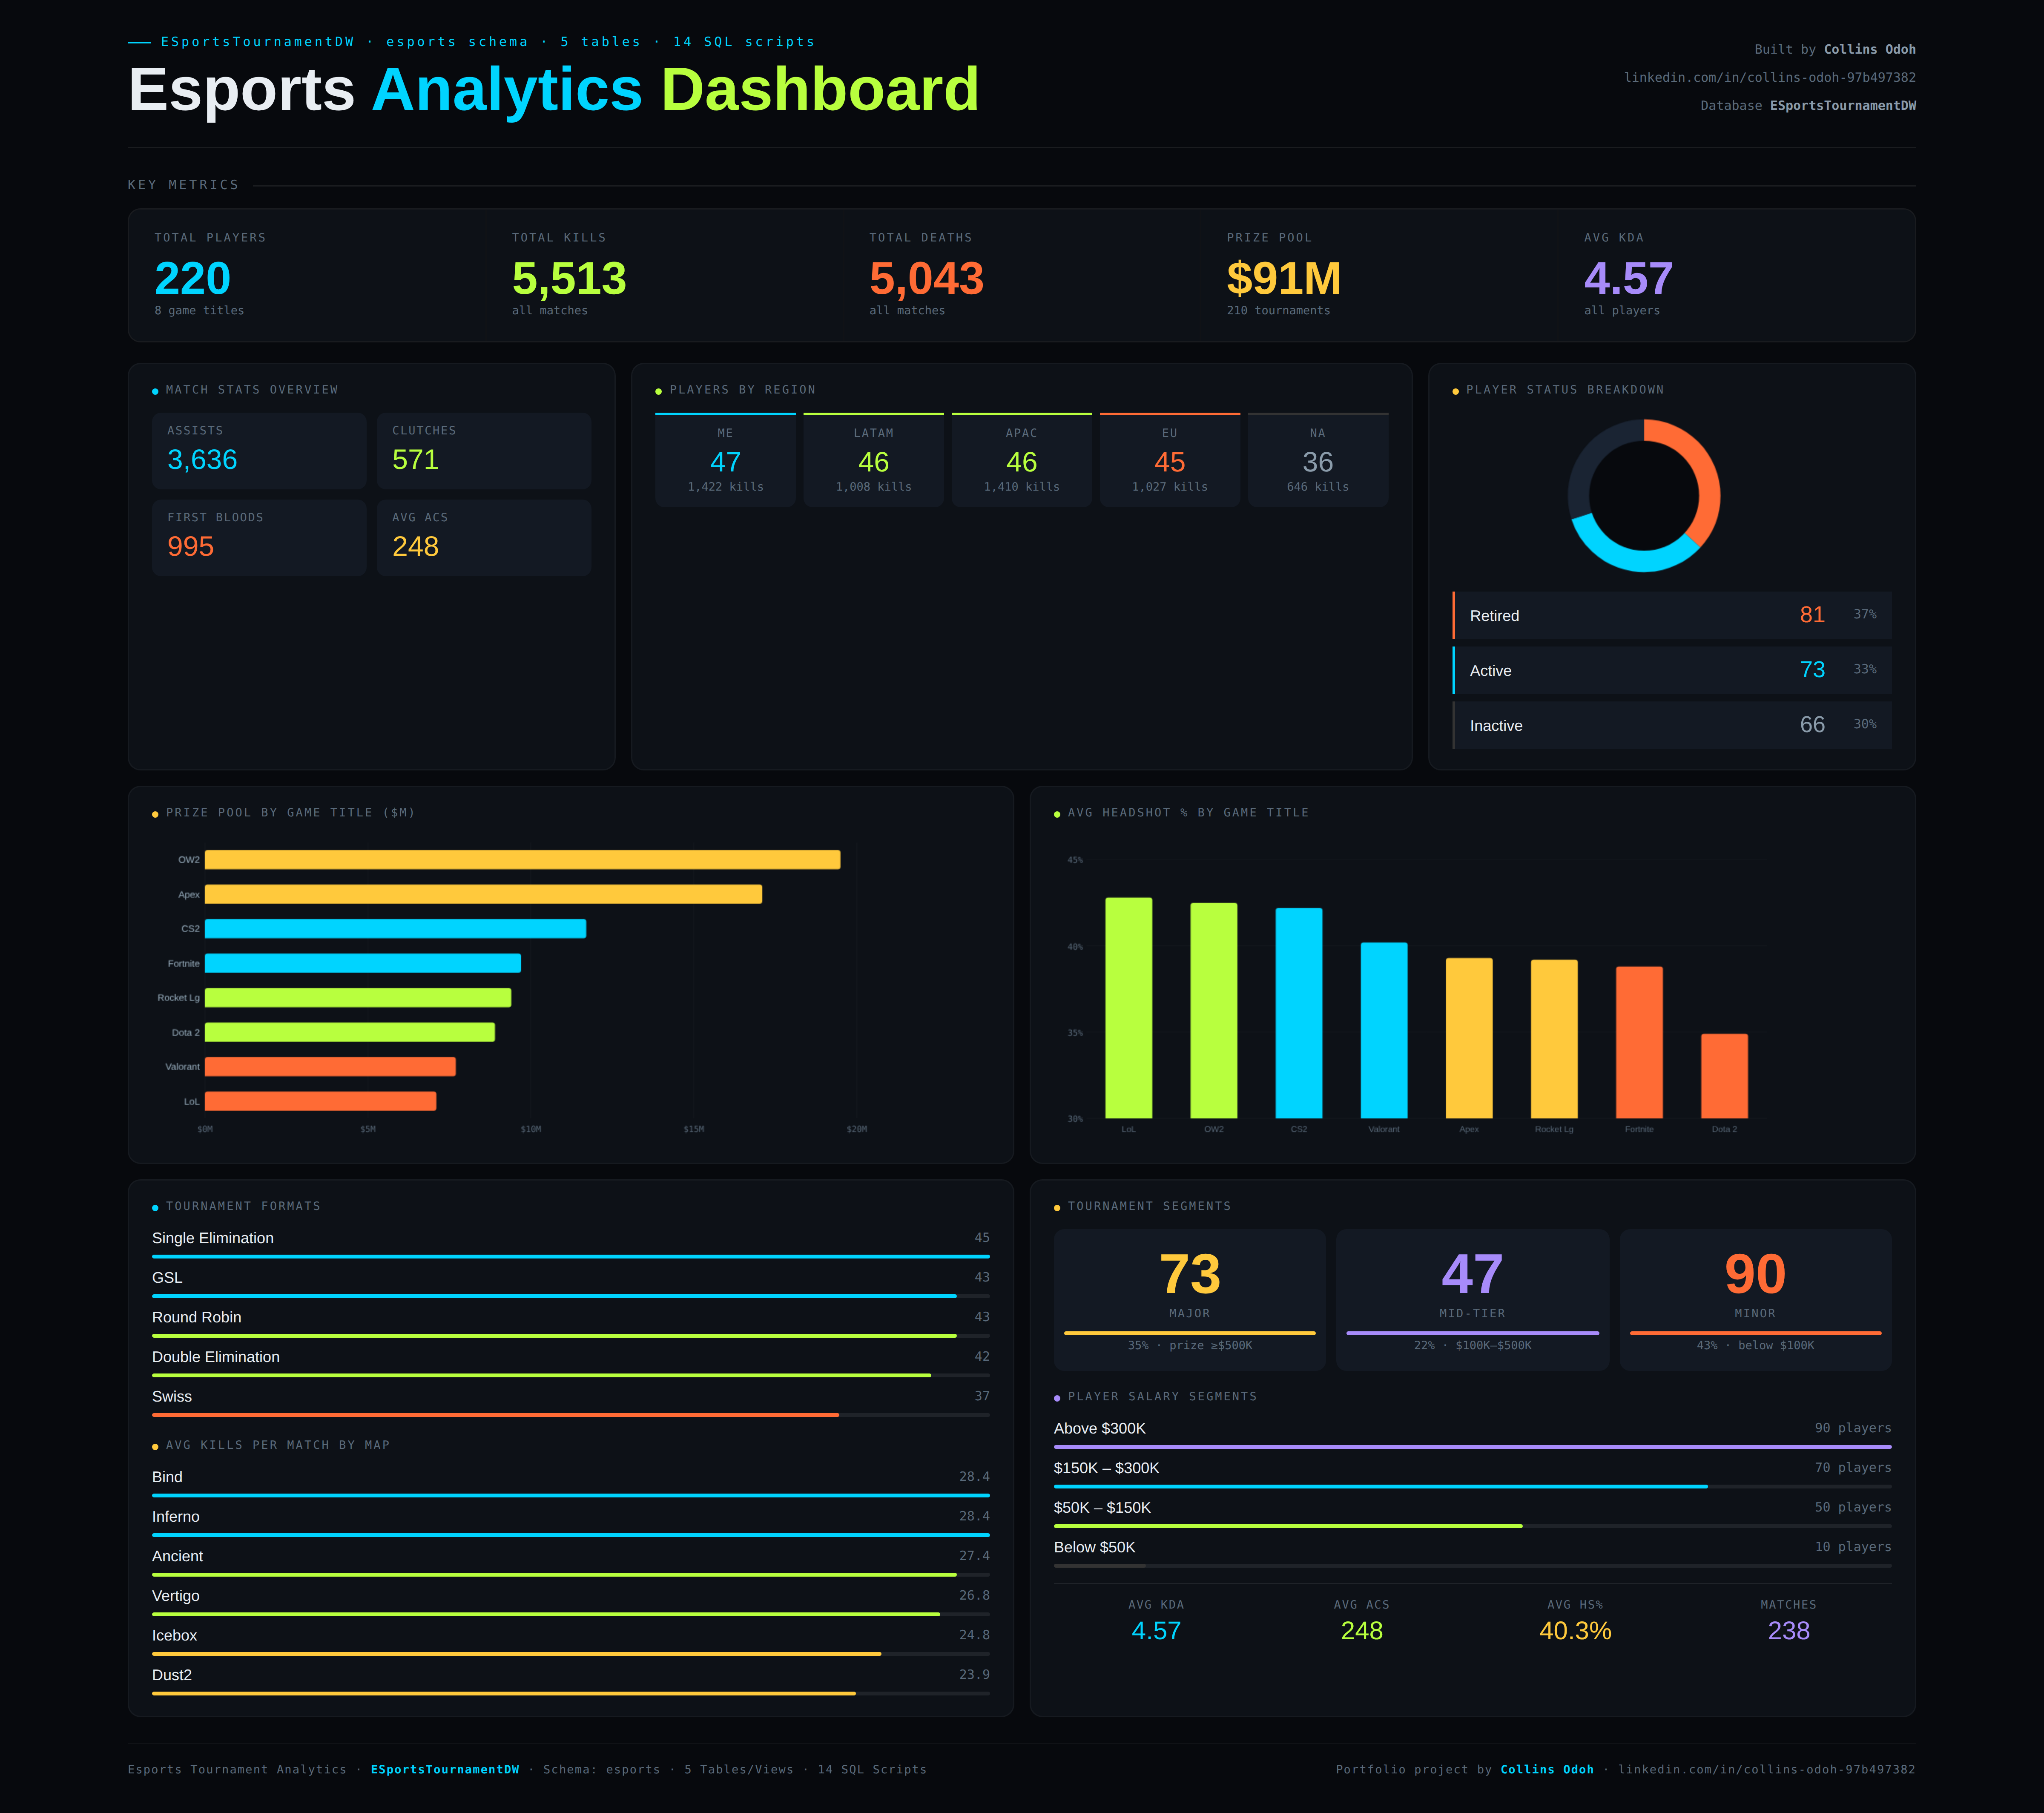

What the dashboard file says about the page in this screenshot:
{"tool":"powerbi","page":{"name":"Page 1","canvas":[3700,4700],"ordinal":0},"visuals":[{"type":"cardVisual","fields":{"Data":["Sum(esports report_tournaments.total_players)","Sum(esports report_tournaments.total_kills)","Sum(esports fact_matchstats.deaths)","CountNonNull(esports report_players.total_matches)","Sum(esports dim_tournaments.prize_pool_usd)"]},"box":[0,603.4,3672.4,282.8],"z":0},{"type":"textbox","box":[20.1,40.1,1459.4,310.9],"z":1000},{"type":"textbox","box":[1100.8,160.5,378.6,62.7],"z":2000},{"type":"textbox","box":[845,235.7,185.6,75.2],"z":3000},{"type":"textbox","box":[1030.6,223.2,260.8,87.8],"z":4000},{"type":"shape","title":"Match stats overview","box":[0,980,1050,885],"z":5000},{"type":"cardVisual","fields":{"Data":["Sum(esports fact_matchstats.assists)"]},"box":[18.8,1065.6,478.1,325],"z":6000},{"type":"cardVisual","fields":{"Data":["Sum(esports fact_matchstats.clutches)"]},"box":[496.9,1065.6,506.2,325],"z":7000},{"type":"cardVisual","fields":{"Data":["Avg(esports report_players.avg_acs)"]},"box":[496.9,1456.2,506.2,315.6],"z":8000},{"type":"cardVisual","fields":{"Data":["Sum(esports fact_matchstats.first_bloods)"]},"box":[0,1456.2,496.9,315.6],"z":9000},{"type":"shape","box":[1100,965,1375,900],"z":10000},{"type":"cardVisual","fields":{"Data":["CountNonNull(esports dim_players.player_key)"]},"box":[1393.8,1009.4,275,446.9],"z":11000},{"type":"cardVisual","fields":{"Data":["CountNonNull(esports dim_players.player_key)"]},"box":[1137.5,1015.6,256.2,425],"z":12000},{"type":"cardVisual","fields":{"Data":["CountNonNull(esports dim_players.player_key)"]},"box":[1643.8,1012.5,287.5,446.9],"z":13000},{"type":"cardVisual","fields":{"Data":["CountNonNull(esports dim_players.player_key)"]},"box":[1906.2,1012.5,281.2,456.2],"z":14000},{"type":"cardVisual","fields":{"Data":["CountNonNull(esports dim_players.player_key)"]},"box":[2171.4,1014.3,267.9,446.4],"z":15000},{"type":"shape","box":[2506.2,965.6,1165.6,1050],"z":16000},{"type":"donutChart","fields":{"Category":["esports dim_players.status"],"Y":["CountNonNull(esports dim_players.player_key)"]},"box":[2837.9,1020.7,579.3,437.9],"z":17000},{"type":"cardVisual","fields":{"Data":["CountNonNull(esports dim_players.player_key)"]},"box":[2593.8,1481.2,1003.1,121.9],"z":18000},{"type":"cardVisual","fields":{"Data":["CountNonNull(esports dim_players.player_key)"]},"box":[2589.3,1614.3,1003.6,135.7],"z":19000},{"type":"cardVisual","fields":{"Data":["CountNonNull(esports dim_players.player_key)"]},"box":[2590.6,1750,1003.1,115.6],"z":20000},{"type":"clusteredBarChart","title":"Prize Pool by Game Title ($M)","fields":{"Category":["esports dim_tournaments.game_title"],"Y":["Sum(esports dim_tournaments.prize_pool_usd)"]},"box":[20,2080,1633.3,793.3],"z":21000},{"type":"clusteredColumnChart","title":"Avg headshot % by game title","fields":{"Category":["esports dim_players.game_title"],"Y":["Avg(esports fact_matchstats.headshot_pct)"]},"box":[1975.8,2081.8,1651.5,772.7],"z":22000},{"type":"donutChart","title":"Player Salary Segments","fields":{"Category":["esports dim_players.Salary Segment"],"Y":["CountNonNull(esports dim_players.player_key)"]},"box":[26.7,3673.3,1453.3,726.7],"z":23000},{"type":"cardVisual","fields":{"Data":["CountNonNull(esports dim_tournaments.tournament_key)"]},"box":[0,4100,1207.4,477.8],"z":24000},{"type":"cardVisual","fields":{"Data":["CountNonNull(esports dim_tournaments.tournament_key)"]},"box":[1243.8,4100,1212.5,478.1],"z":25000},{"type":"cardVisual","fields":{"Data":["CountNonNull(esports dim_tournaments.tournament_key)"]},"box":[2440.7,4100,1207.4,477.8],"z":26000},{"type":"clusteredBarChart","title":"        TOURNAMENT FORMAT","fields":{"Category":["esports dim_tournaments.format"],"Y":["CountNonNull(esports dim_tournaments.tournament_key)"]},"box":[2047.1,3029.4,1461.8,397.1],"z":27000},{"type":"clusteredBarChart","fields":{"Category":["esports fact_matchstats.map_played"],"Y":["Avg(esports fact_matchstats.kills)"]},"box":[2046.9,3518.8,1456.2,515.6],"z":28000}]}

Visuals, with their boxes on the page's 3700x4700 design canvas (x1, y1, x2, y2). These are canvas units, not pixel positions in the 2044x1813 screenshot, which may show the page scaled, cropped or inside an application window:
cardVisual - Sum(esports report_tournaments.total_players) x Sum(esports report_tournaments.total_kills): [left=0, top=603, right=3672, bottom=886]
textbox: [left=20, top=40, right=1480, bottom=351]
textbox: [left=1101, top=160, right=1479, bottom=223]
textbox: [left=845, top=236, right=1031, bottom=311]
textbox: [left=1031, top=223, right=1291, bottom=311]
"Match stats overview" shape: [left=0, top=980, right=1050, bottom=1865]
cardVisual - Sum(esports fact_matchstats.assists): [left=19, top=1066, right=497, bottom=1391]
cardVisual - Sum(esports fact_matchstats.clutches): [left=497, top=1066, right=1003, bottom=1391]
cardVisual - Avg(esports report_players.avg_acs): [left=497, top=1456, right=1003, bottom=1772]
cardVisual - Sum(esports fact_matchstats.first_bloods): [left=0, top=1456, right=497, bottom=1772]
shape: [left=1100, top=965, right=2475, bottom=1865]
cardVisual - CountNonNull(esports dim_players.player_key): [left=1394, top=1009, right=1669, bottom=1456]
cardVisual - CountNonNull(esports dim_players.player_key): [left=1138, top=1016, right=1394, bottom=1441]
cardVisual - CountNonNull(esports dim_players.player_key): [left=1644, top=1012, right=1931, bottom=1459]
cardVisual - CountNonNull(esports dim_players.player_key): [left=1906, top=1012, right=2187, bottom=1469]
cardVisual - CountNonNull(esports dim_players.player_key): [left=2171, top=1014, right=2439, bottom=1461]
shape: [left=2506, top=966, right=3672, bottom=2016]
donutChart - esports dim_players.status x CountNonNull(esports dim_players.player_key): [left=2838, top=1021, right=3417, bottom=1459]
cardVisual - CountNonNull(esports dim_players.player_key): [left=2594, top=1481, right=3597, bottom=1603]
cardVisual - CountNonNull(esports dim_players.player_key): [left=2589, top=1614, right=3593, bottom=1750]
cardVisual - CountNonNull(esports dim_players.player_key): [left=2591, top=1750, right=3594, bottom=1866]
"Prize Pool by Game Title ($M)" clusteredBarChart: [left=20, top=2080, right=1653, bottom=2873]
"Avg headshot % by game title" clusteredColumnChart: [left=1976, top=2082, right=3627, bottom=2854]
"Player Salary Segments" donutChart: [left=27, top=3673, right=1480, bottom=4400]
cardVisual - CountNonNull(esports dim_tournaments.tournament_key): [left=0, top=4100, right=1207, bottom=4578]
cardVisual - CountNonNull(esports dim_tournaments.tournament_key): [left=1244, top=4100, right=2456, bottom=4578]
cardVisual - CountNonNull(esports dim_tournaments.tournament_key): [left=2441, top=4100, right=3648, bottom=4578]
"        TOURNAMENT FORMAT" clusteredBarChart: [left=2047, top=3029, right=3509, bottom=3426]
clusteredBarChart - esports fact_matchstats.map_played x Avg(esports fact_matchstats.kills): [left=2047, top=3519, right=3503, bottom=4034]
